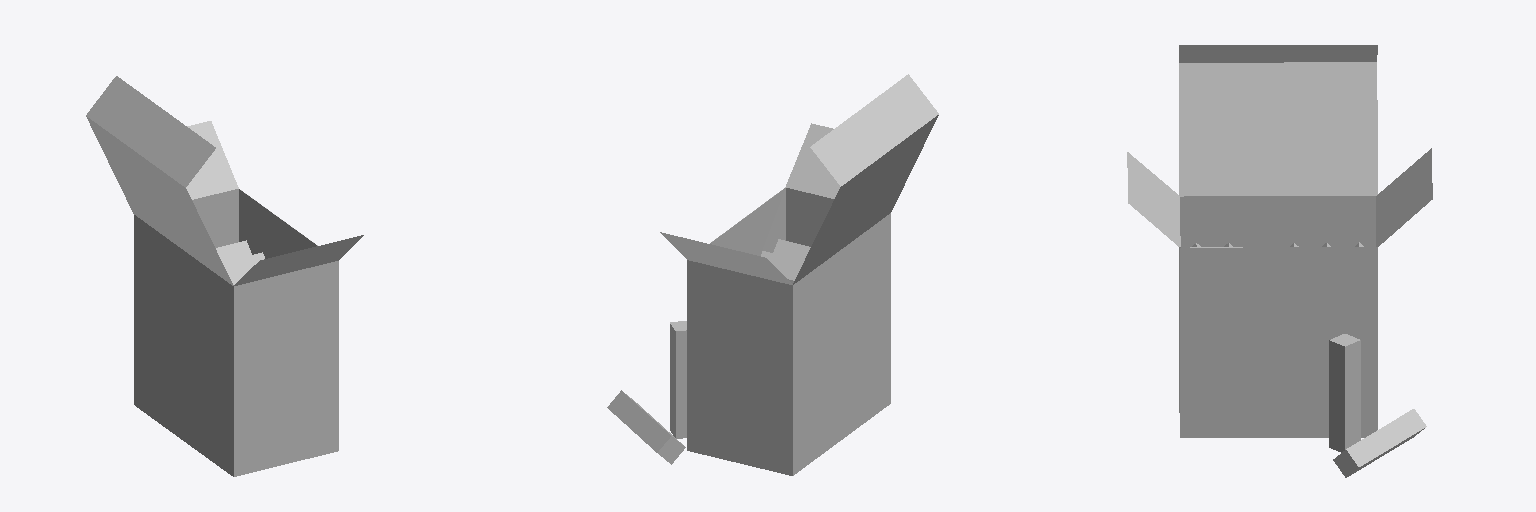
File: 12g_Green_240.obj
The picture shows the model from 3 angles: view 1: azimuth 30°, elevation 25°; view 2: azimuth 150°, elevation 25°; view 3: azimuth 270°, elevation 25°; orthographic projection.
Visible parts, largest first — view 1: 12g_box_Green; view 2: 12g_box_Green; view 3: 12g_box_Green.
Boxes of the visible parts, x1,y1,x2,y2 form: 12g_box_Green: [86, 76, 363, 476]; 12g_box_Green: [607, 74, 938, 475]; 12g_box_Green: [1127, 45, 1432, 477].
Bounding box in the file's own units: 1.84 × 2.41 × 2.